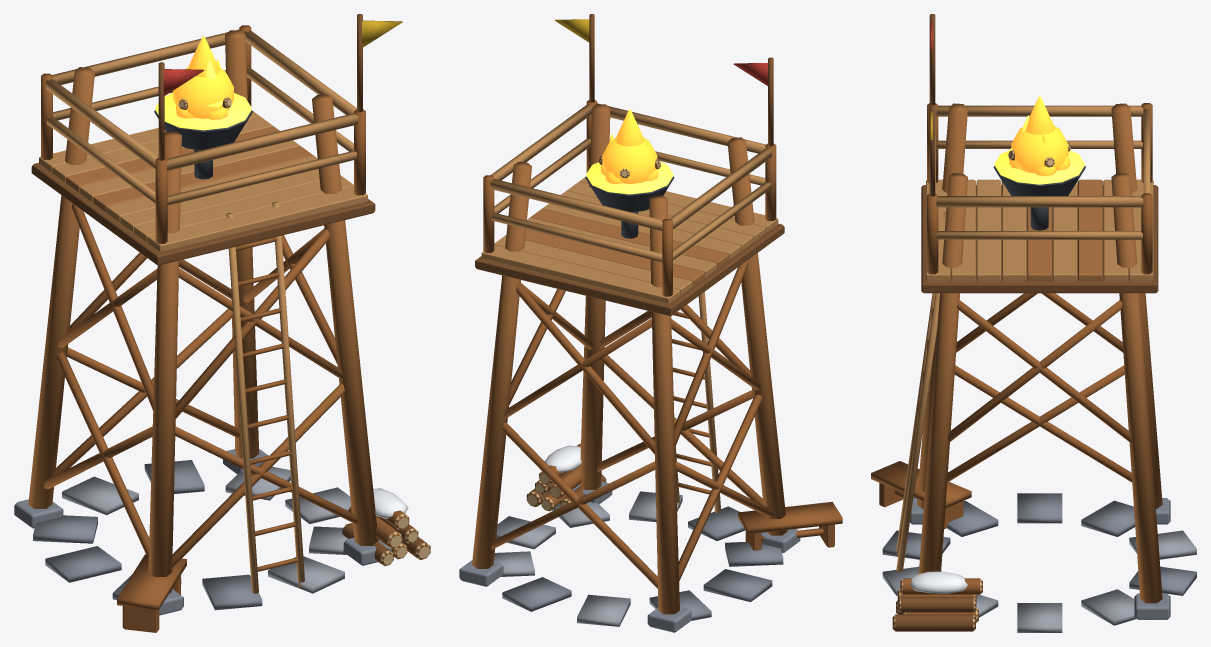
File: watchtower.glb
3 renders of one model, left to right at view 1: azimuth 30°, elevation 25°; view 2: azimuth 150°, elevation 25°; view 3: azimuth 270°, elevation 25°, orthographic. The views are drawn at different scales.
Parts seen in each view (by area): view 1: exterior, roof, floor; view 2: exterior, roof, floor; view 3: exterior, roof, floor.
Boxes of the visible parts, <box> form: exterior: <box>14,30,430,632</box>; roof: <box>31,14,402,265</box>; floor: <box>33,460,351,610</box>; exterior: <box>459,104,842,632</box>; roof: <box>475,14,784,316</box>; floor: <box>494,491,783,626</box>; exterior: <box>871,103,1170,631</box>; roof: <box>921,14,1158,293</box>; floor: <box>882,493,1196,632</box>.
Size of the model in its own units: 2.98 by 4.96 by 2.89.
